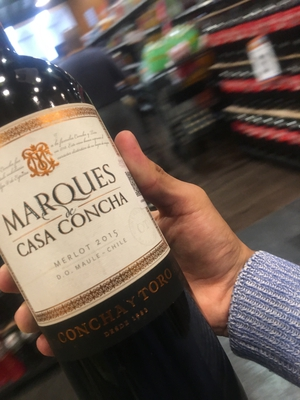marques de casa concha merlot: (2, 53, 179, 392)
